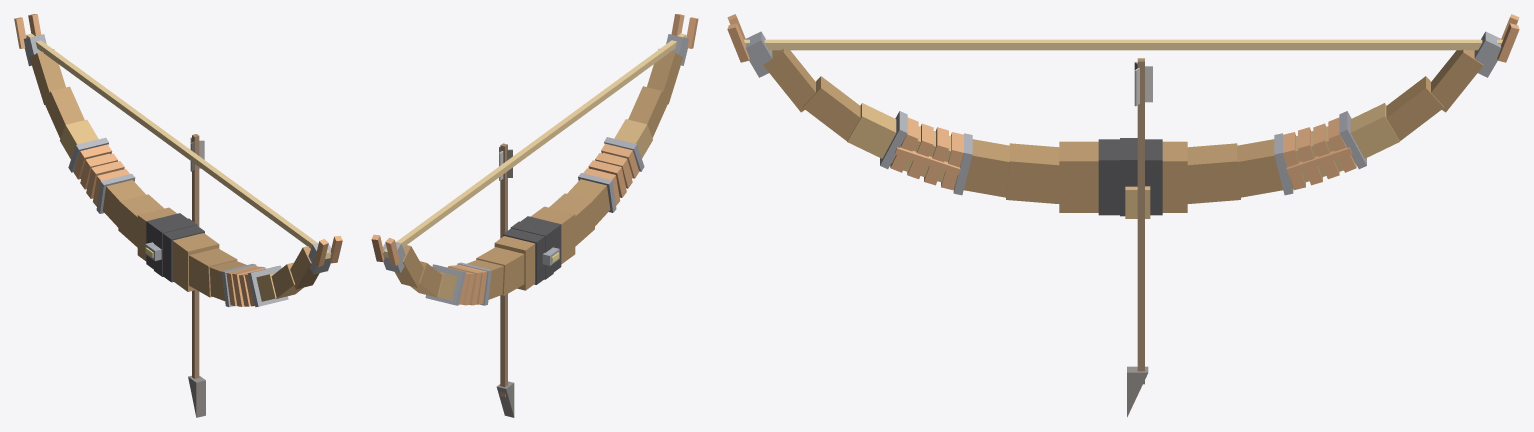
The model's file is art_thunderhead_recurve.fbx.
3 views of the same model, side by side, from view 1: azimuth 30°, elevation 25°; view 2: azimuth 150°, elevation 25°; view 3: azimuth 270°, elevation 25° (orthographic). The views are drawn at different scales.
Visible parts, largest first — view 1: BowString, Handle, ArrowShaft, LimbL_1, LimbU_5, LimbU_1, LimbU_6, LimbU_2, LimbU_4, VulcaniteGrip_3, LimbL_6, VulcaniteGrip_2 (+16 smaller); view 2: BowString, Handle, ArrowShaft, LimbU_1, LimbL_5, LimbL_1, LimbL_6, LimbL_2, LimbL_4, VulcaniteGrip_1, LimbU_6, LimbU_5 (+16 smaller); view 3: BowString, Handle, LimbL_1, LimbU_1, ArrowShaft, LimbL_2, LimbU_2, LimbL_5, LimbU_5, LimbL_6, LimbU_6, LimbL_4 (+6 smaller).
Part boxes in pixels (x1=…): BowString: x1=26, y1=33, x2=330, y2=259; Handle: x1=137, y1=207, x2=219, y2=291; ArrowShaft: x1=192, y1=134, x2=199, y2=378; LimbL_1: x1=189, y1=248, x2=237, y2=297; LimbU_5: x1=43, y1=86, x2=84, y2=138; LimbU_1: x1=118, y1=194, x2=163, y2=247; LimbU_6: x1=29, y1=49, x2=65, y2=104; LimbU_2: x1=102, y1=180, x2=145, y2=227; LimbU_4: x1=60, y1=119, x2=98, y2=158; VulcaniteGrip_3: x1=163, y1=225, x2=204, y2=282; LimbL_6: x1=290, y1=246, x2=319, y2=289; VulcaniteGrip_2: x1=154, y1=218, x2=197, y2=276; BowString: x1=383, y1=33, x2=686, y2=257; Handle: x1=494, y1=206, x2=575, y2=290; ArrowShaft: x1=500, y1=143, x2=507, y2=397; LimbU_1: x1=476, y1=247, x2=524, y2=295; LimbL_5: x1=628, y1=86, x2=668, y2=137; LimbL_1: x1=549, y1=193, x2=594, y2=246; LimbL_6: x1=647, y1=49, x2=683, y2=104; LimbL_2: x1=567, y1=179, x2=610, y2=225; LimbL_4: x1=614, y1=119, x2=652, y2=158; VulcaniteGrip_1: x1=503, y1=228, x2=544, y2=284; LimbU_6: x1=395, y1=245, x2=423, y2=287; LimbU_5: x1=410, y1=261, x2=442, y2=297; BowString: x1=744, y1=39, x2=1502, y2=50; Handle: x1=1059, y1=141, x2=1187, y2=212; LimbL_1: x1=1006, y1=143, x2=1059, y2=203; LimbU_1: x1=1187, y1=143, x2=1240, y2=203; ArrowShaft: x1=1137, y1=58, x2=1144, y2=384; LimbL_2: x1=953, y1=139, x2=1009, y2=197; LimbU_2: x1=1237, y1=139, x2=1293, y2=197; LimbL_5: x1=802, y1=76, x2=860, y2=140; LimbU_5: x1=1386, y1=76, x2=1444, y2=140; LimbL_6: x1=763, y1=49, x2=815, y2=112; LimbU_6: x1=1431, y1=49, x2=1483, y2=112; LimbL_4: x1=847, y1=103, x2=896, y2=163.
Bounding box in the file's own units: 0.4685 × 2.35 × 4.45.
